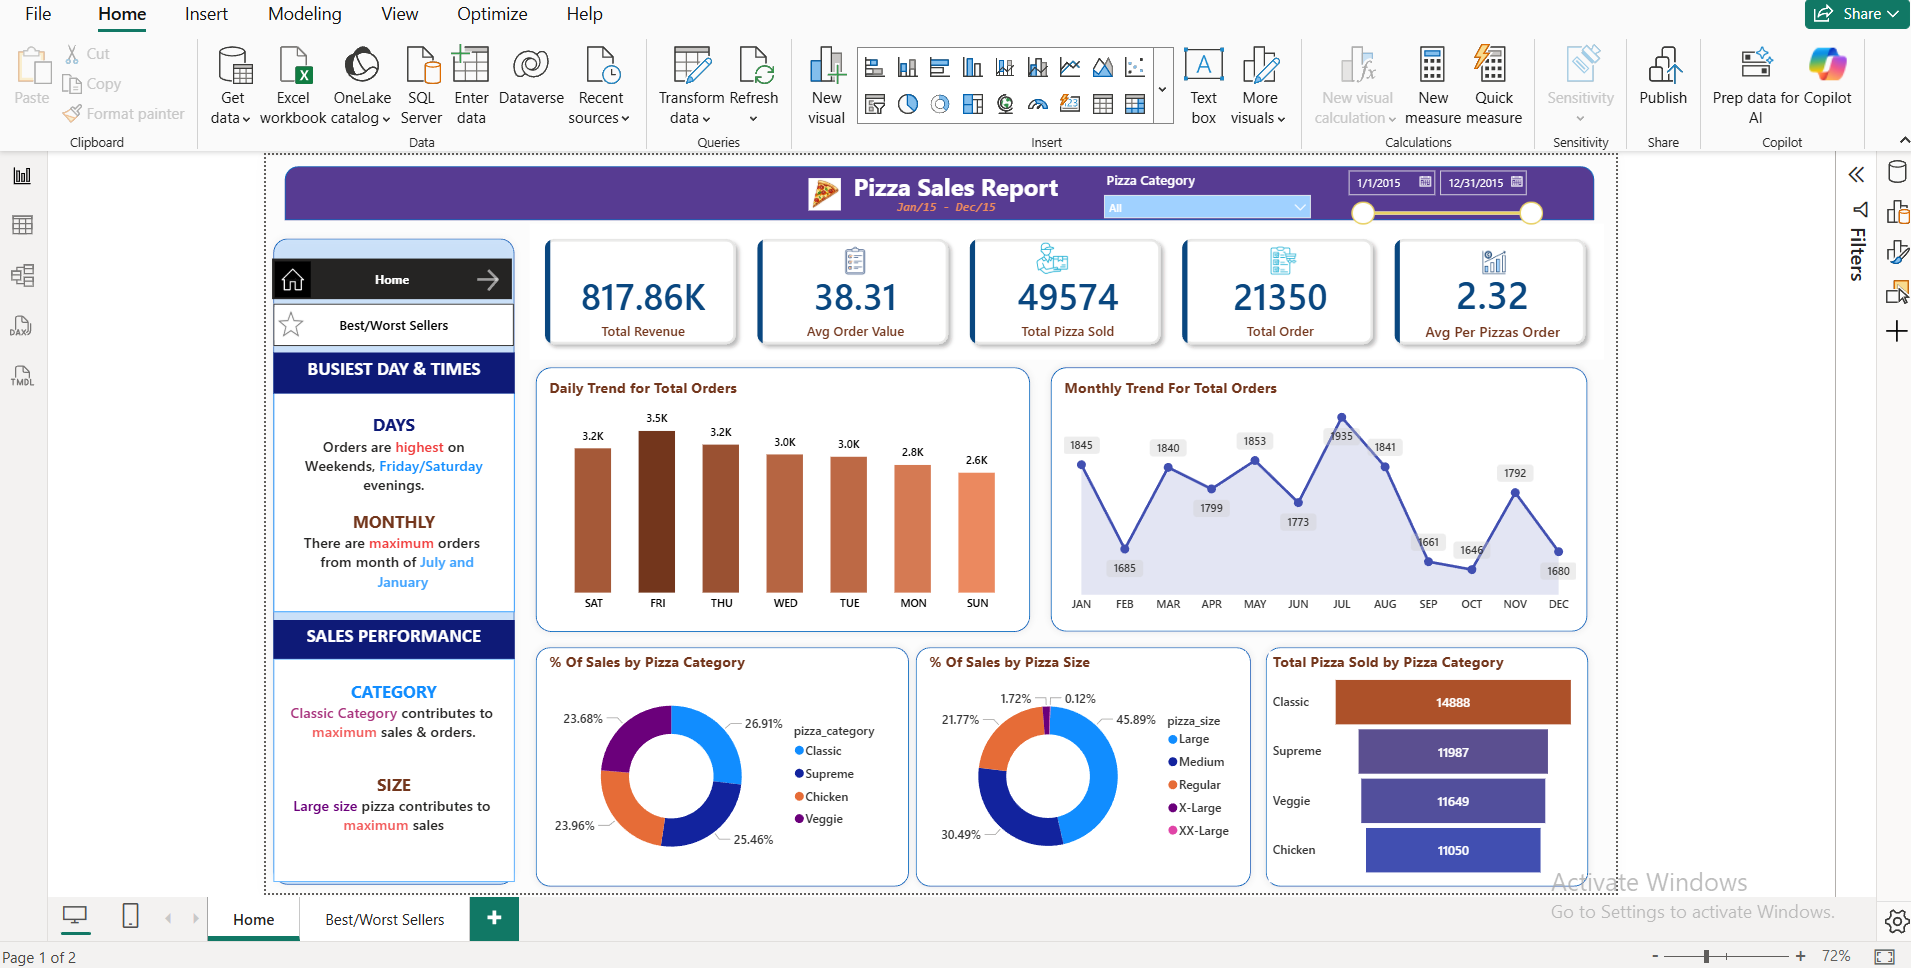

What the dashboard file says about the page in this screenshot:
{"tool":"powerbi","page":{"name":"Home","canvas":[1500,820],"ordinal":0},"visuals":[{"type":"shape","box":[0,85.4,284.1,734.1],"z":0},{"type":"textbox","box":[8.3,264.3,267.9,244],"z":1000},{"type":"textbox","box":[8.3,219,267.9,45.2],"z":2000},{"type":"cardVisual","fields":{"Data":["pizza_sales.Total Revenue","pizza_sales.Avg Order Value","pizza_sales.Total Pizza Sold","pizza_sales.Total Order","pizza_sales.Avg Per Pizzas Order"]},"box":[292.7,76.8,1193.9,151.2],"z":3000},{"type":"image","box":[635.1,101.7,40.4,32],"z":4000},{"type":"image","box":[855.1,93.3,36.2,43.2],"z":5000},{"type":"image","box":[1114.1,101.7,33.4,32],"z":6000},{"type":"image","box":[1350.9,101.7,26.5,36.2],"z":7000},{"type":"shape","box":[21.2,12.5,1455,60],"z":8000},{"type":"textbox","box":[621.1,12.5,291.1,46],"z":9000},{"type":"textbox","box":[675.4,43.2,161.5,29.2],"z":10000},{"type":"textbox","box":[8.3,559.5,267.9,247.6],"z":11000},{"type":"image","box":[603,20.9,36.2,46],"z":12000},{"type":"shape","box":[292.3,228.2,565.4,310.3],"z":13000},{"type":"columnChart","title":"Daily Trend for Total Orders","fields":{"Category":["pizza_sales.Order day"],"Y":["pizza_sales.Total Order"]},"box":[310.3,247.4,535.9,269.2],"z":14000},{"type":"shape","box":[864.2,228.4,612.3,309.9],"z":15000},{"type":"textbox","box":[8.3,516.7,267.9,42.9],"z":16000},{"type":"areaChart","title":"Monthly Trend For Total Orders","fields":{"Category":["pizza_sales.Order Month"],"Y":["pizza_sales.Total Order"]},"box":[882.4,247.1,578.8,270.6],"z":17000},{"type":"shape","box":[292.3,538.5,430.8,282.1],"z":18000},{"type":"shape","box":[714.1,538.5,388.5,282.1],"z":19000},{"type":"shape","box":[1102.6,538.5,374.4,282.1],"z":20000},{"type":"donutChart","title":"% Of Sales by Pizza Category","fields":{"Category":["pizza_sales.pizza_category"],"Y":["pizza_sales.Total Revenue"]},"box":[310.3,551.3,393.6,256.4],"z":21000},{"type":"donutChart","title":"% Of Sales by Pizza Size","fields":{"Y":["pizza_sales.Total Revenue"],"Category":["pizza_sales.pizza_size"]},"box":[732.1,551.3,356.4,256.4],"z":22000},{"type":"funnel","title":"Total Pizza Sold by Pizza Category","fields":{"Category":["pizza_sales.pizza_category"],"Y":["pizza_sales.Total Pizza Sold"]},"box":[1114.1,551.3,346.2,256.4],"z":23000},{"type":"slicer","fields":{"Values":["pizza_sales.pizza_category"]},"box":[921.4,13.1,250,59.5],"z":24000},{"type":"slicer","fields":{"Values":["pizza_sales.order_date"]},"box":[1190,6.2,236.2,72.5],"z":25000},{"type":"pageNavigator","box":[7.5,115,266.2,45],"z":25001},{"type":"pageNavigator","box":[7.8,165.6,267.2,47],"z":25002},{"type":"actionButton","box":[228.8,122.5,45,33.8],"z":25003},{"type":"image","box":[10,167.5,36.2,38.8],"z":25004},{"type":"image","box":[10,116.2,40,43.8],"z":25005}]}

Visuals, with their boxes on the page's 1500x820 design canvas (x1, y1, x2, y2). These are canvas units, not pixel positions in the 1911x968 screenshot, which may show the page scaled, cropped or inside an application window:
shape: x1=0, y1=85, x2=284, y2=820
textbox: x1=8, y1=264, x2=276, y2=508
textbox: x1=8, y1=219, x2=276, y2=264
cardVisual - pizza_sales.Total Revenue x pizza_sales.Avg Order Value: x1=293, y1=77, x2=1487, y2=228
image: x1=635, y1=102, x2=676, y2=134
image: x1=855, y1=93, x2=891, y2=136
image: x1=1114, y1=102, x2=1148, y2=134
image: x1=1351, y1=102, x2=1377, y2=138
shape: x1=21, y1=12, x2=1476, y2=72
textbox: x1=621, y1=12, x2=912, y2=58
textbox: x1=675, y1=43, x2=837, y2=72
textbox: x1=8, y1=560, x2=276, y2=807
image: x1=603, y1=21, x2=639, y2=67
shape: x1=292, y1=228, x2=858, y2=538
"Daily Trend for Total Orders" columnChart: x1=310, y1=247, x2=846, y2=517
shape: x1=864, y1=228, x2=1476, y2=538
textbox: x1=8, y1=517, x2=276, y2=560
"Monthly Trend For Total Orders" areaChart: x1=882, y1=247, x2=1461, y2=518
shape: x1=292, y1=538, x2=723, y2=821
shape: x1=714, y1=538, x2=1103, y2=821
shape: x1=1103, y1=538, x2=1477, y2=821
"% Of Sales by Pizza Category" donutChart: x1=310, y1=551, x2=704, y2=808
"% Of Sales by Pizza Size" donutChart: x1=732, y1=551, x2=1088, y2=808
"Total Pizza Sold by Pizza Category" funnel: x1=1114, y1=551, x2=1460, y2=808
slicer - pizza_sales.pizza_category: x1=921, y1=13, x2=1171, y2=73
slicer - pizza_sales.order_date: x1=1190, y1=6, x2=1426, y2=79
pageNavigator: x1=8, y1=115, x2=274, y2=160
pageNavigator: x1=8, y1=166, x2=275, y2=213
actionButton: x1=229, y1=122, x2=274, y2=156
image: x1=10, y1=168, x2=46, y2=206
image: x1=10, y1=116, x2=50, y2=160
